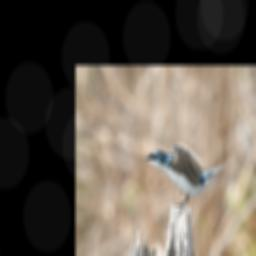Swallow: (144, 142, 236, 208)
